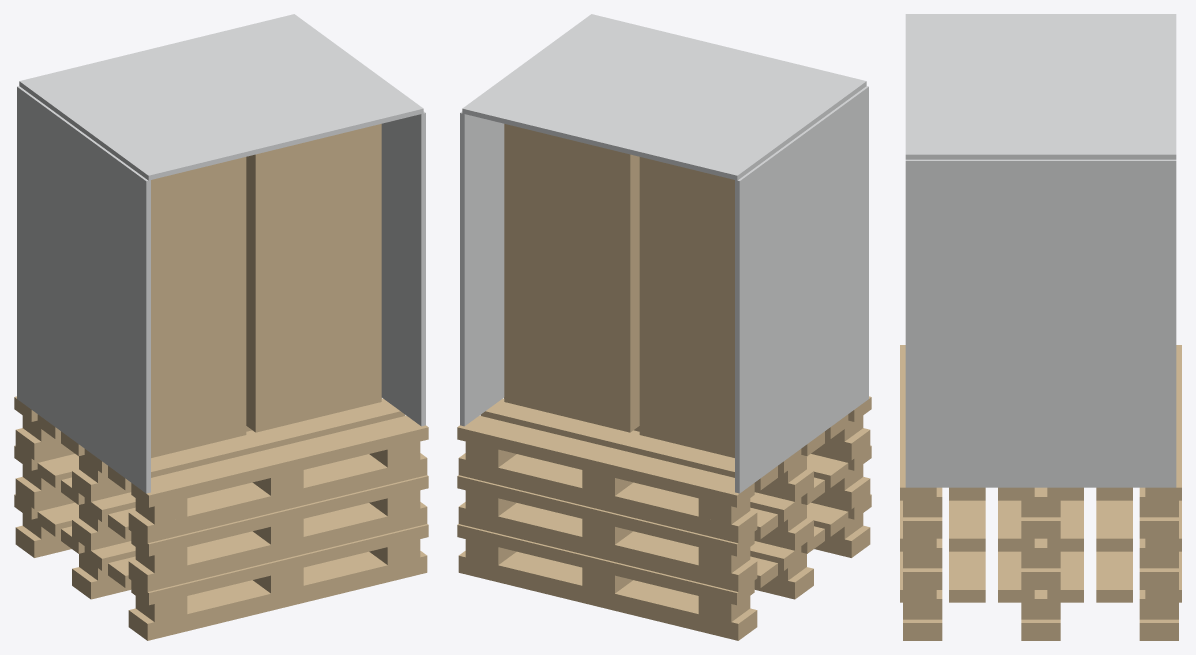
The model's file is chocolate-and-confectionery-factory-pallet-stack-449cae55__36797.glb.
3 views of the same model, side by side, from view 1: azimuth 30°, elevation 25°; view 2: azimuth 150°, elevation 25°; view 3: azimuth 270°, elevation 25° (orthographic). The views are drawn at different scales.
Parts seen in each view (by area): view 1: pallet-stack; view 2: pallet-stack; view 3: pallet-stack.
Part boxes in pixels (<box>): pallet-stack: <box>14,14,428,640</box>; pallet-stack: <box>457,14,871,640</box>; pallet-stack: <box>900,14,1181,640</box>.
Bounding box in the file's own units: 1.2 × 1.9 × 1.
